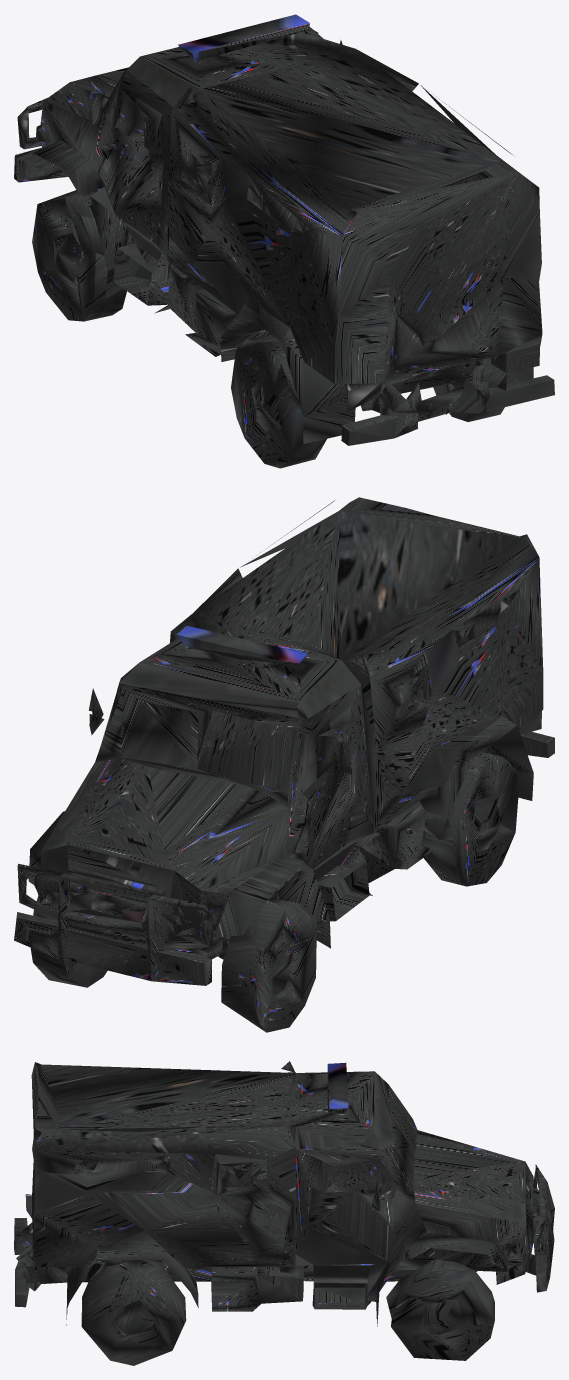
File: omon_swat_van_17k.glb
The picture shows the model from 3 angles, top to bottom: view 1: azimuth 30°, elevation 25°; view 2: azimuth 150°, elevation 25°; view 3: azimuth 270°, elevation 25°; orthographic projection. The views are drawn at different scales.
Parts seen in each view (by area): view 1: output_unwrapped; view 2: output_unwrapped; view 3: output_unwrapped.
Part boxes in pixels (x1,y1,x2,y2): output_unwrapped: [14, 14, 554, 468]; output_unwrapped: [14, 497, 554, 1032]; output_unwrapped: [14, 1061, 554, 1365].
Bounding box in the file's own units: 2.68 × 3.01 × 6.18.
Materials: 1 (1 with a texture image).
